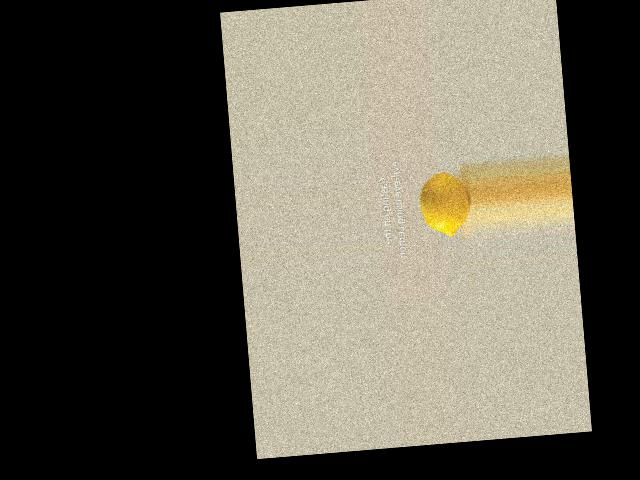lemon: (413, 164, 470, 247)
